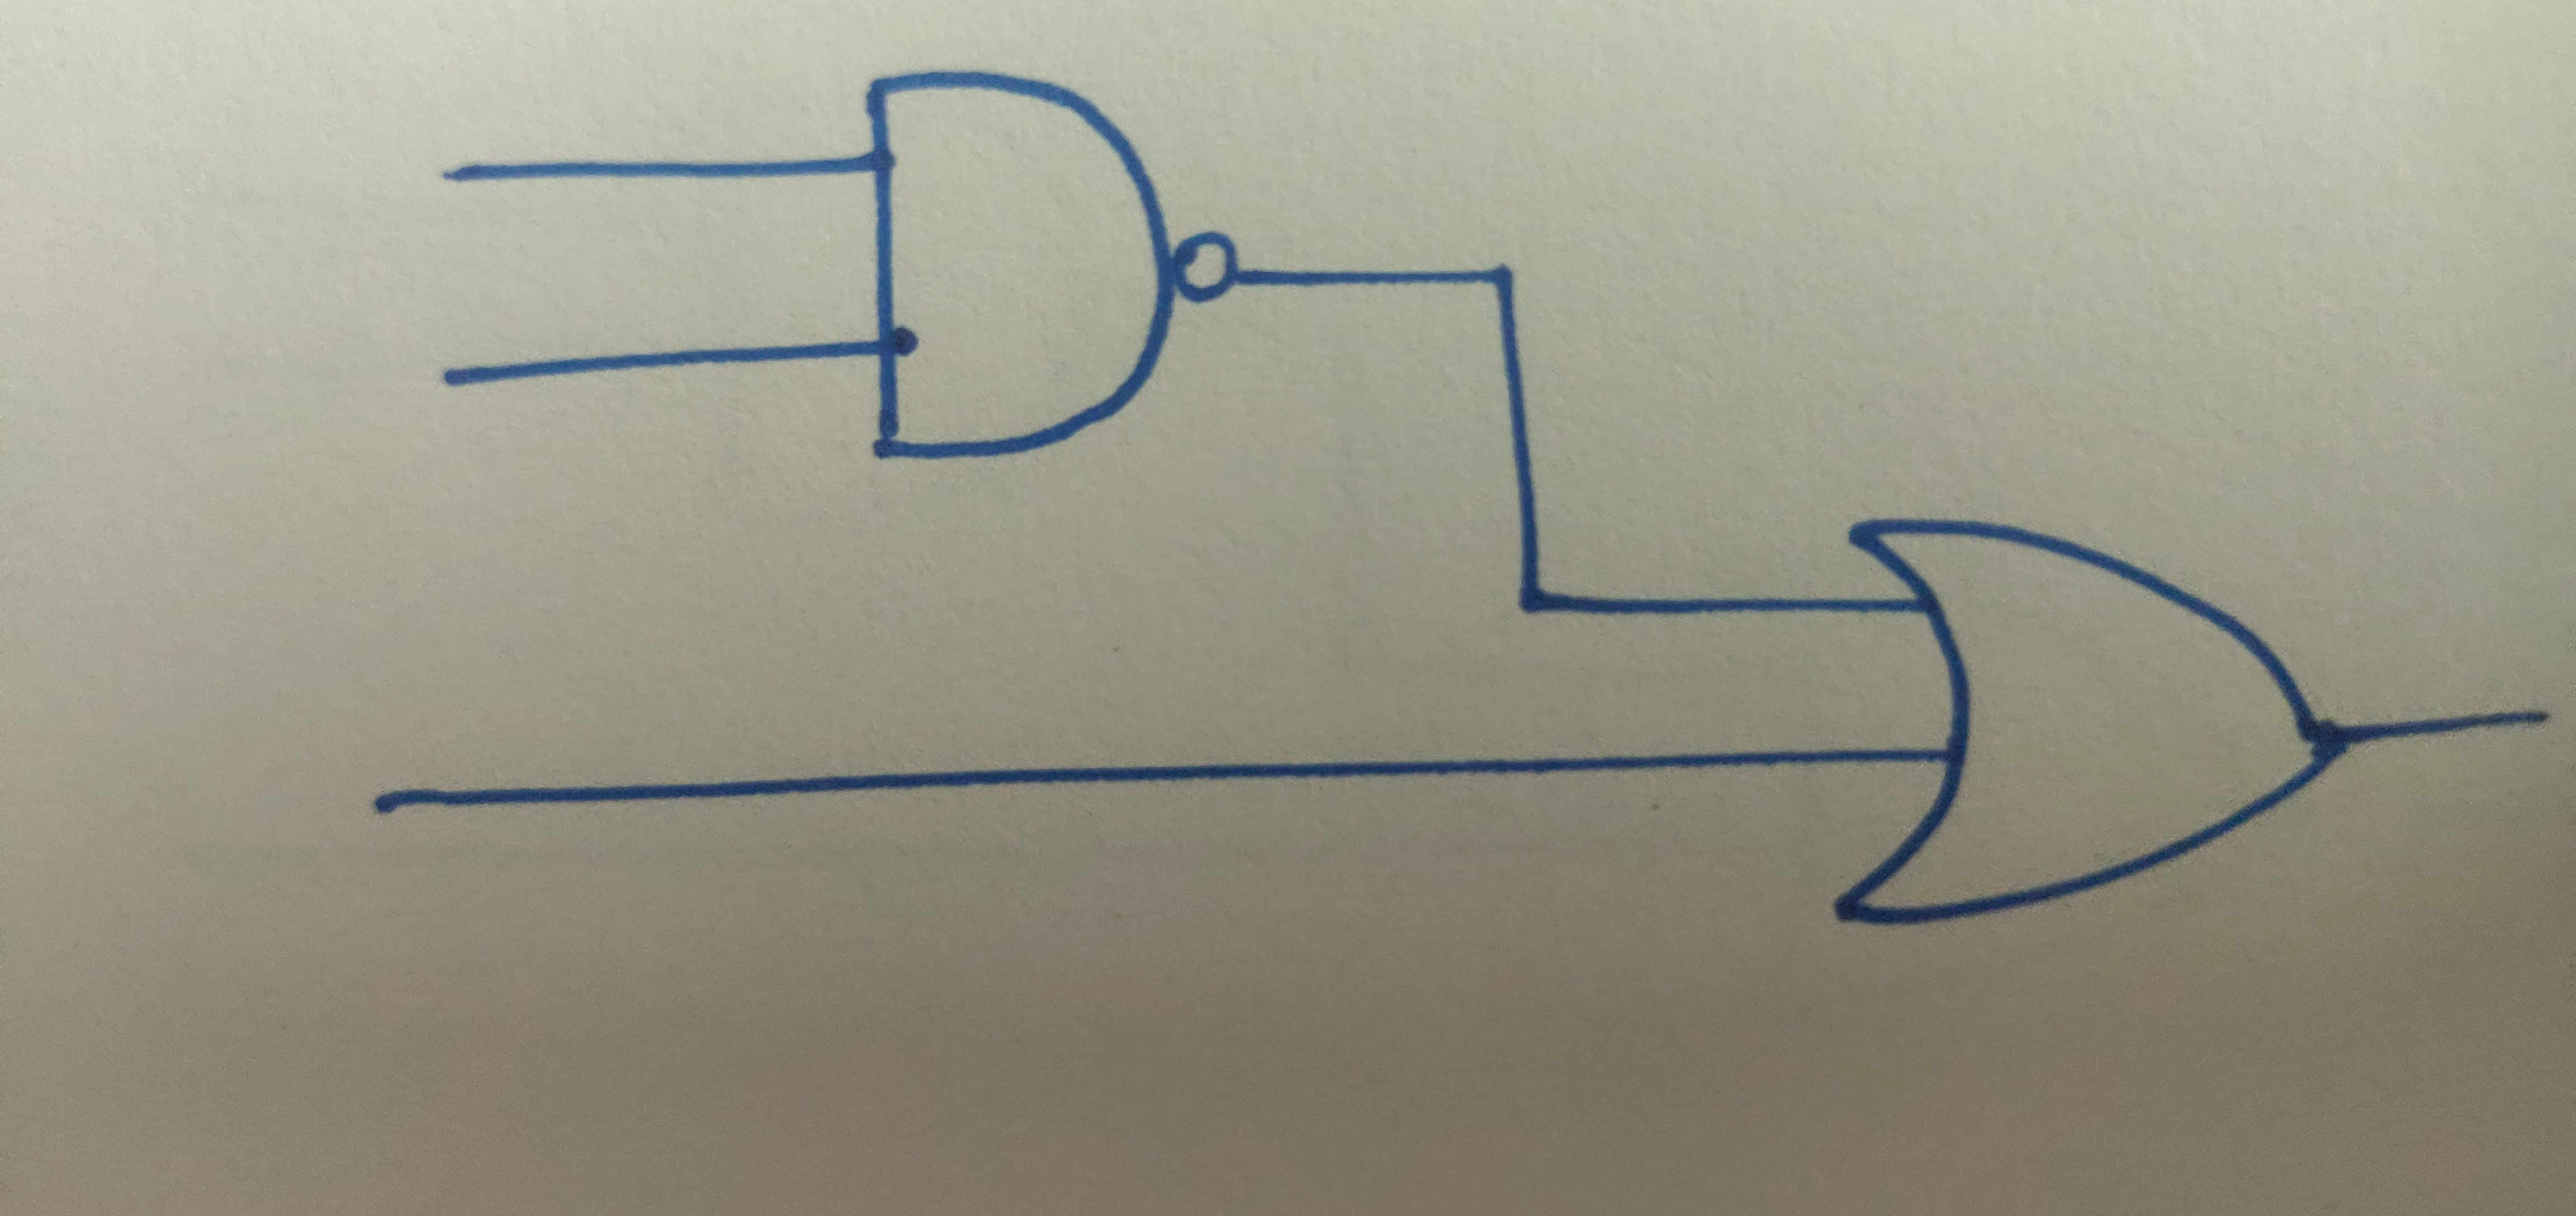and: (858, 69, 1183, 470)
not: (1173, 227, 1239, 309)
or: (1833, 516, 2339, 933)
